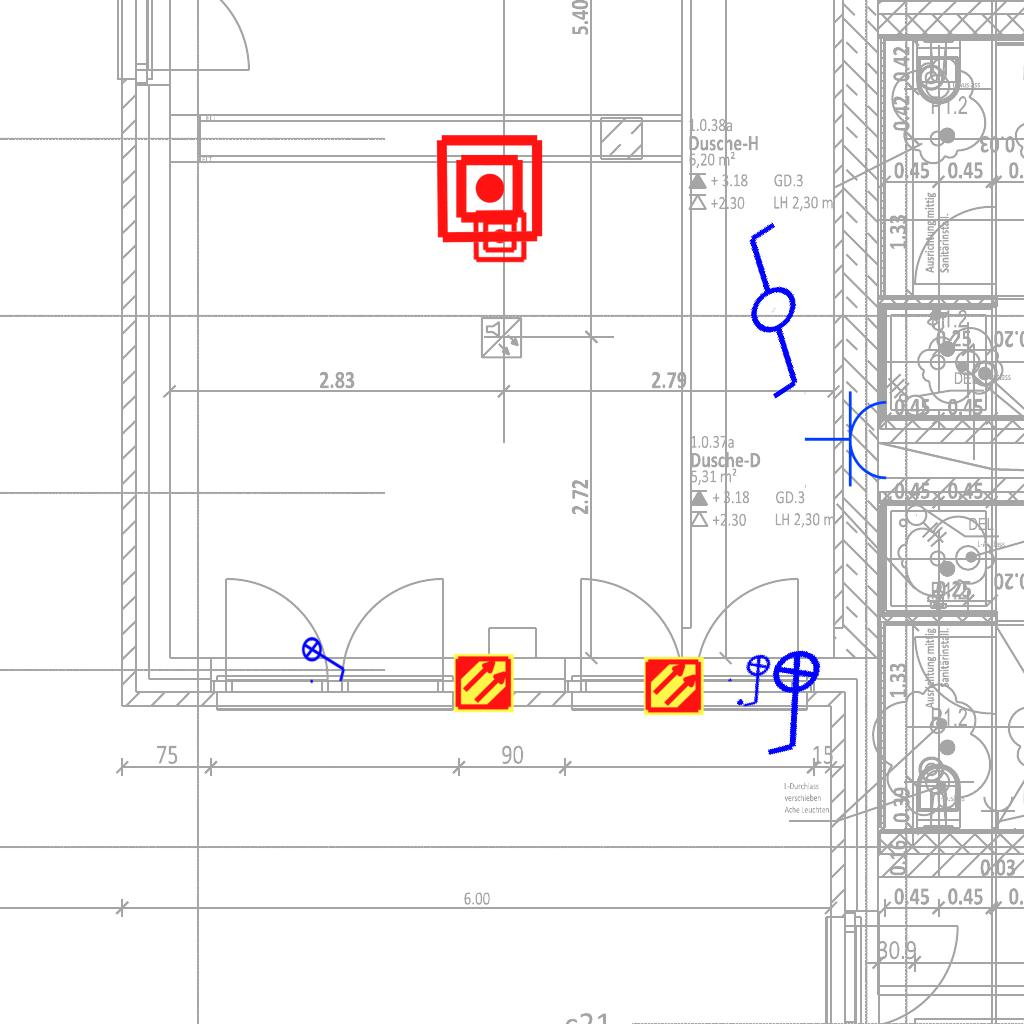ASR_Ansaugrauchmelder: (643, 655, 705, 717), (453, 652, 515, 714)
Ausschalter_beleuchtet: (721, 633, 867, 773), (721, 646, 793, 716), (301, 630, 349, 686)
NAM-Nichtautomatischer_Melder: (433, 132, 546, 245), (472, 208, 528, 264)
Schukosteckdose_einfach: (804, 390, 891, 490)
Wechselschalter: (674, 198, 887, 412)
